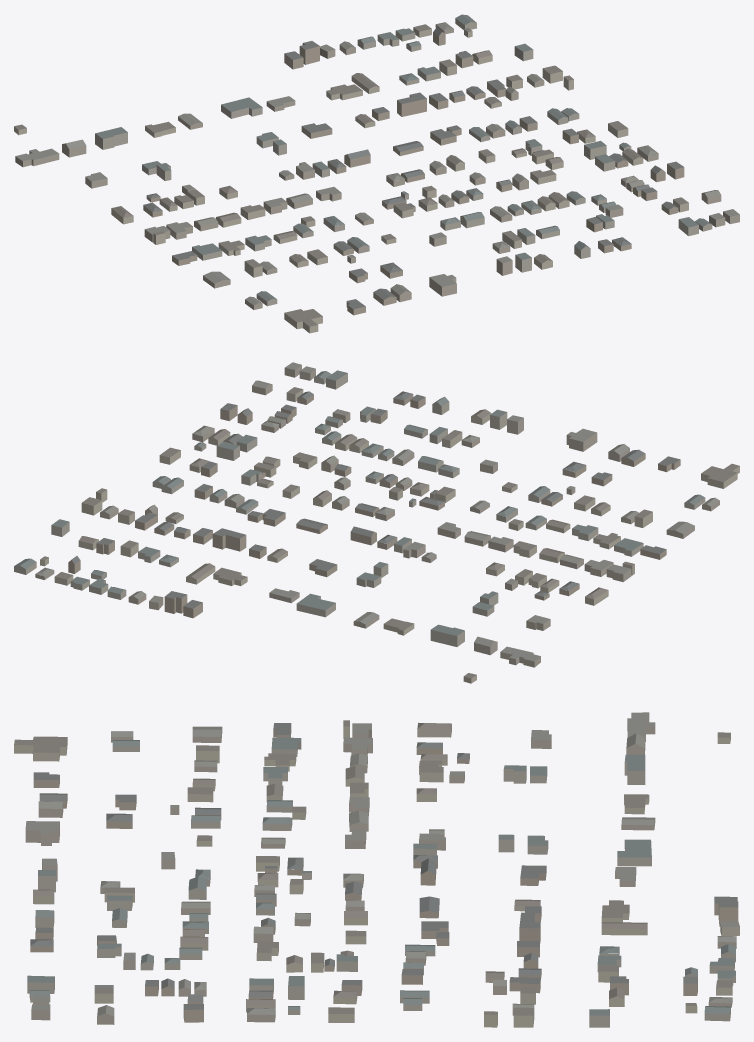
Rendered from 8418ba2f22a0-chunk-1198_11841.glb.
3 renders of one model, top to bottom at view 1: azimuth 30°, elevation 25°; view 2: azimuth 150°, elevation 25°; view 3: azimuth 270°, elevation 25°, orthographic. The views are drawn at different scales.
Visible parts, largest first — view 1: building_17958, building_100101, building_92605, building_39189, building_66268; view 2: building_17958, building_66268, building_100101, building_39189, building_92605, building_155711; view 3: building_17958, building_100101, building_155711, building_26668, building_39189, building_92605, building_117996, building_66268, building_44764.
Part boxes in pixels (x1,y1,x2,y2): building_17958: (284,309,322,333); building_100101: (221,97,262,118); building_92605: (15,148,59,167); building_39189: (95,127,127,149); building_66268: (397,92,426,116); building_17958: (701,463,739,488); building_66268: (212,528,246,551); building_100101: (296,593,335,617); building_39189: (430,624,464,646); building_92605: (500,646,540,667); building_155711: (566,428,597,451); building_17958: (14,736,67,761); building_100101: (617,839,651,866); building_155711: (25,821,59,845); building_26668: (601,922,647,935); building_39189: (624,754,645,784); building_92605: (627,712,655,741); building_117996: (601,900,629,922); building_66268: (519,912,540,943); building_44764: (417,722,451,737).
Size of the model in its own units: 398 by 11.59 by 397.
